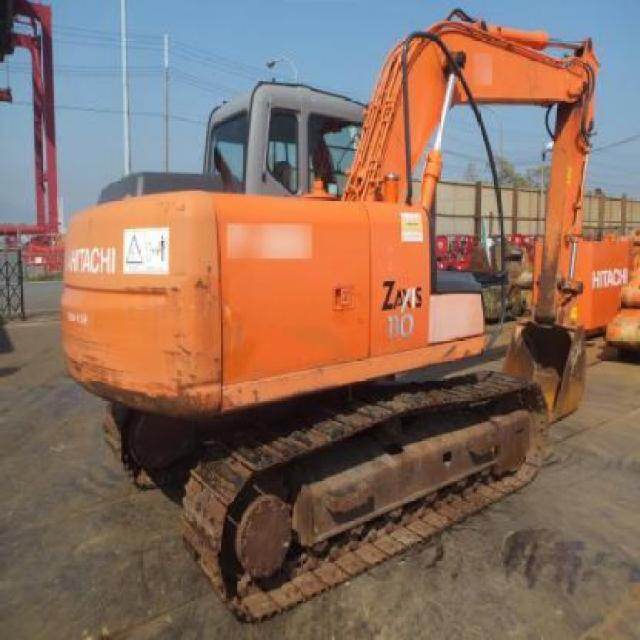Excavator: (56, 6, 602, 622)
